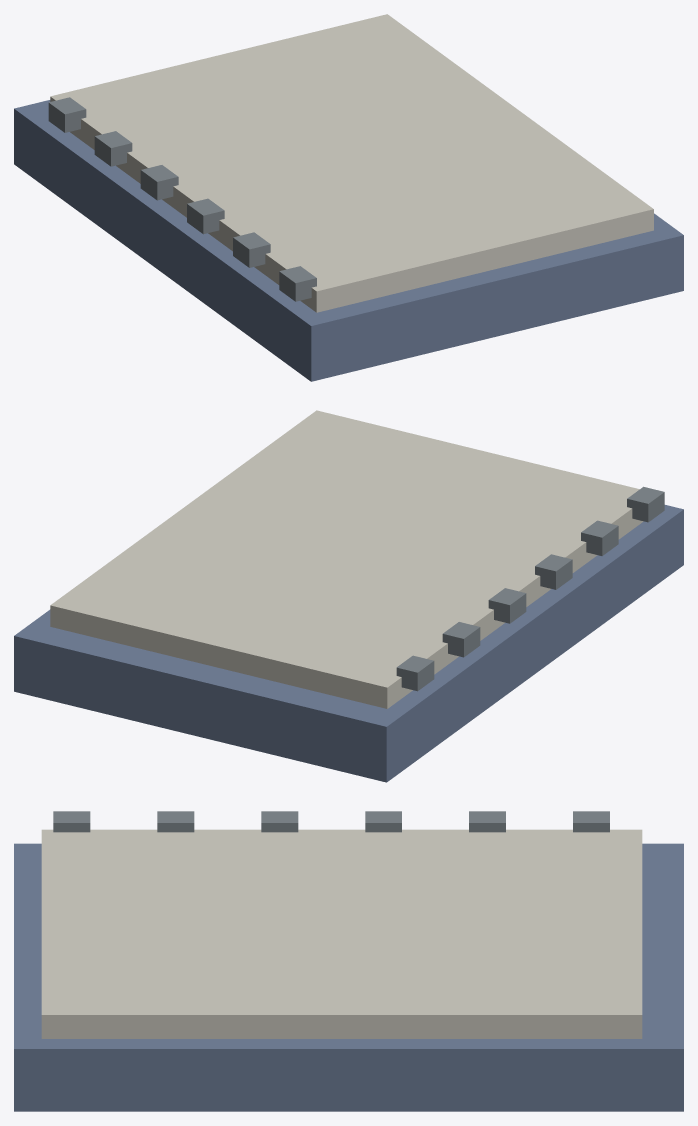
File: CLS-016.glb
The picture shows the model from 3 angles, top to bottom: view 1: azimuth 30°, elevation 25°; view 2: azimuth 150°, elevation 25°; view 3: azimuth 270°, elevation 25°; orthographic projection. The views are drawn at different scales.
Parts seen in each view (by area): view 1: 001_Paper_leaves, 000_Notebook_cover, 005_Binder_clip, 007_Binder_clip, 006_Binder_clip, 002_Binder_clip, 003_Binder_clip, 004_Binder_clip; view 2: 001_Paper_leaves, 000_Notebook_cover, 007_Binder_clip, 005_Binder_clip, 006_Binder_clip, 004_Binder_clip, 002_Binder_clip, 003_Binder_clip; view 3: 001_Paper_leaves, 000_Notebook_cover, 002_Binder_clip, 003_Binder_clip, 004_Binder_clip, 005_Binder_clip, 006_Binder_clip, 007_Binder_clip.
Boxes of the visible parts, x1,y1,x2,y2 form: 001_Paper_leaves: [50, 14, 653, 312]; 000_Notebook_cover: [14, 100, 683, 381]; 005_Binder_clip: [140, 165, 178, 200]; 007_Binder_clip: [48, 97, 86, 132]; 006_Binder_clip: [94, 131, 132, 166]; 002_Binder_clip: [279, 266, 316, 301]; 003_Binder_clip: [233, 232, 270, 267]; 004_Binder_clip: [187, 198, 224, 234]; 001_Paper_leaves: [50, 410, 643, 708]; 000_Notebook_cover: [14, 505, 683, 782]; 007_Binder_clip: [396, 655, 434, 691]; 005_Binder_clip: [488, 588, 526, 623]; 006_Binder_clip: [442, 622, 480, 657]; 004_Binder_clip: [535, 554, 572, 589]; 002_Binder_clip: [627, 486, 664, 522]; 003_Binder_clip: [581, 520, 618, 555]; 001_Paper_leaves: [41, 829, 642, 1038]; 000_Notebook_cover: [14, 843, 683, 1111]; 002_Binder_clip: [53, 811, 90, 832]; 003_Binder_clip: [157, 811, 194, 832]; 004_Binder_clip: [261, 811, 298, 832]; 005_Binder_clip: [365, 811, 401, 832]; 006_Binder_clip: [469, 811, 505, 832]; 007_Binder_clip: [573, 811, 609, 832].
Bounding box in the file's own units: 0.21 × 0.046 × 0.29.
